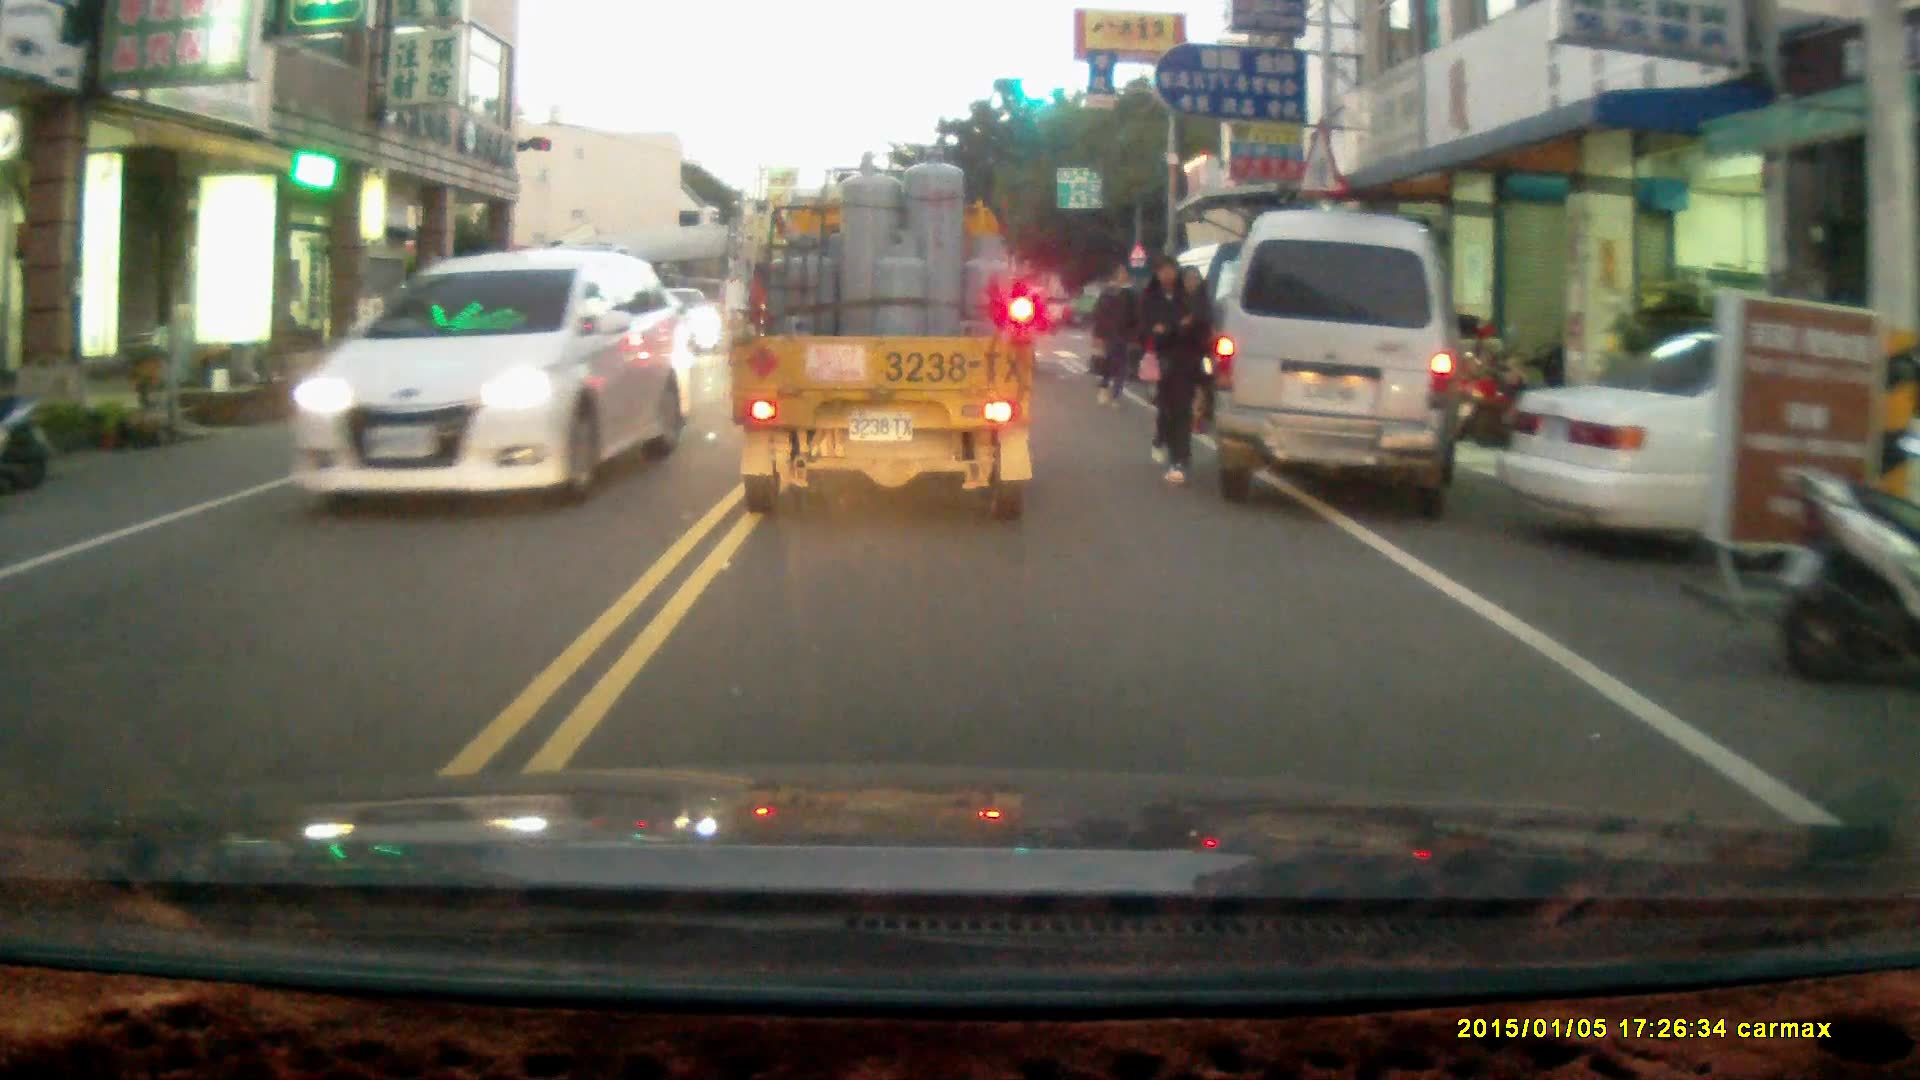pedestrian: (1134, 254, 1204, 490), (1091, 261, 1142, 410)
vehicle: (723, 142, 1039, 522), (1491, 326, 1920, 581), (290, 247, 692, 504), (1206, 209, 1469, 510)
